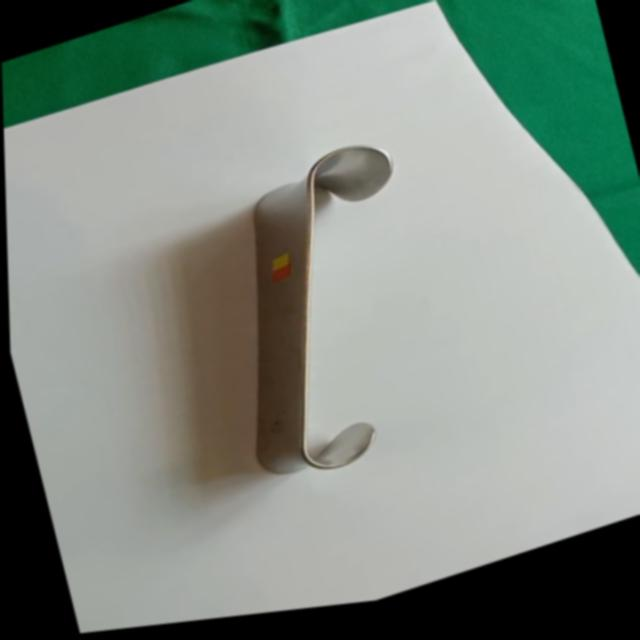CheekRetractor: (187, 135, 458, 503)
